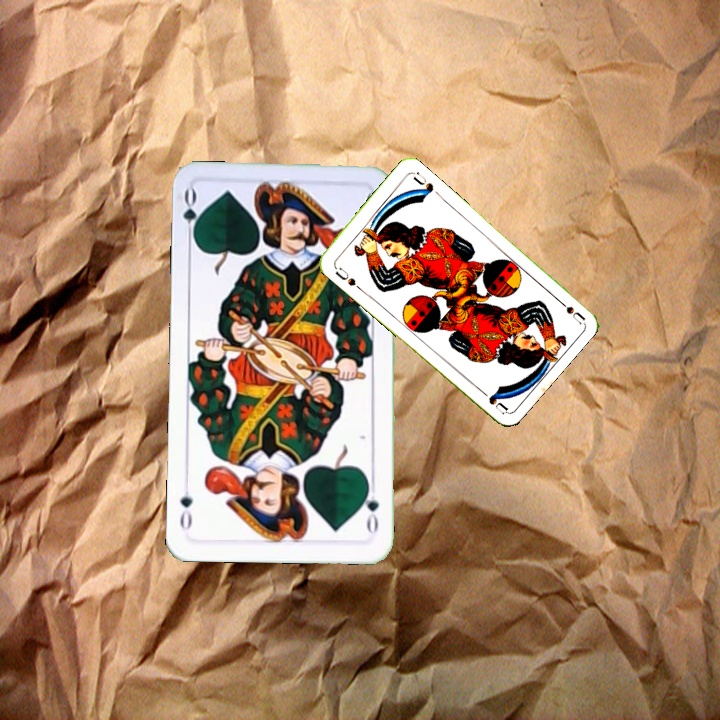GO: (179, 186, 205, 245), (359, 479, 381, 536)
SU: (551, 293, 587, 326), (330, 261, 363, 292)
